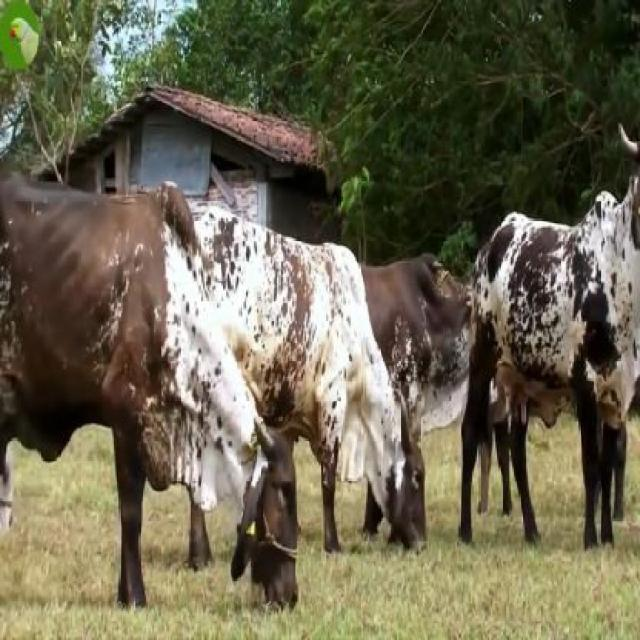Cow: (2, 162, 300, 608)
